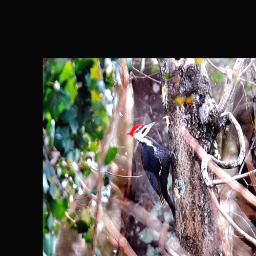Woodpecker: (123, 121, 176, 223)
